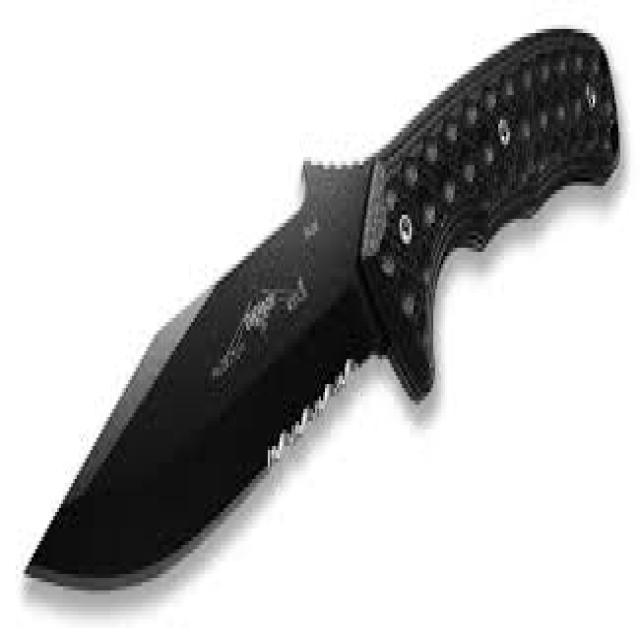knives: (20, 16, 622, 598)
